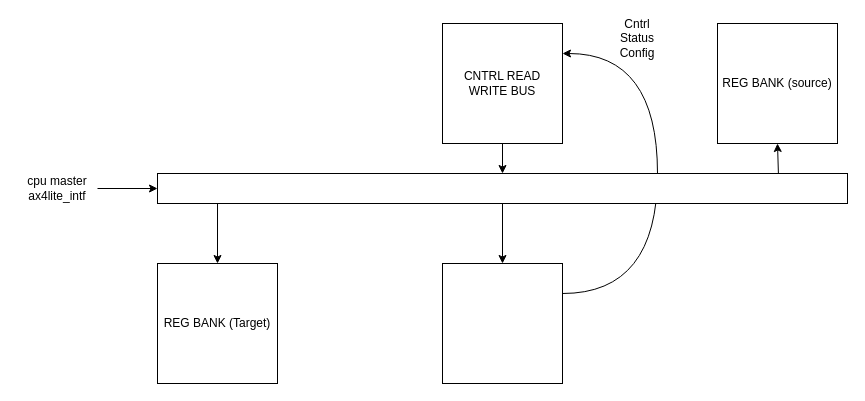
Some shapes in this 865 by 401 pixel diagram are drawn without their labels. The centre of each missing label's shape, as x and y in pixels:
"AXI" goes at point (502, 188).
"REG MAP" goes at point (502, 323).
